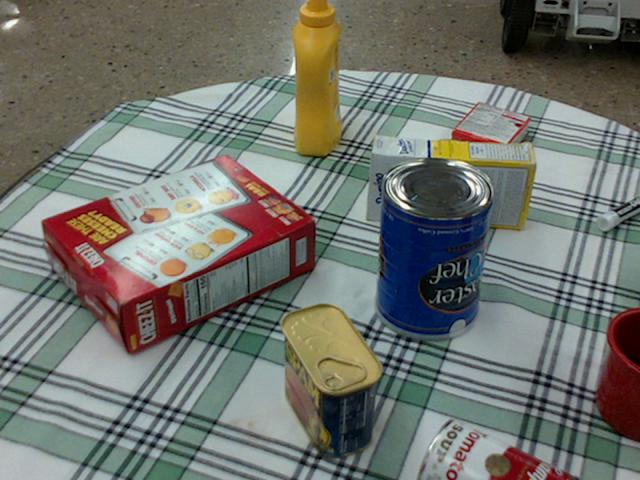cracker_box: (41, 156, 311, 352)
gelatin_box: (449, 102, 529, 164)
large_marker: (596, 195, 639, 229)
master_chef_can: (375, 156, 496, 338)
mug: (594, 306, 639, 440)
mustard_bottle: (291, 0, 340, 154)
potted_meat_can: (280, 303, 382, 456)
sugar_box: (366, 136, 535, 229)
tomato_soup_can: (418, 419, 578, 479)
